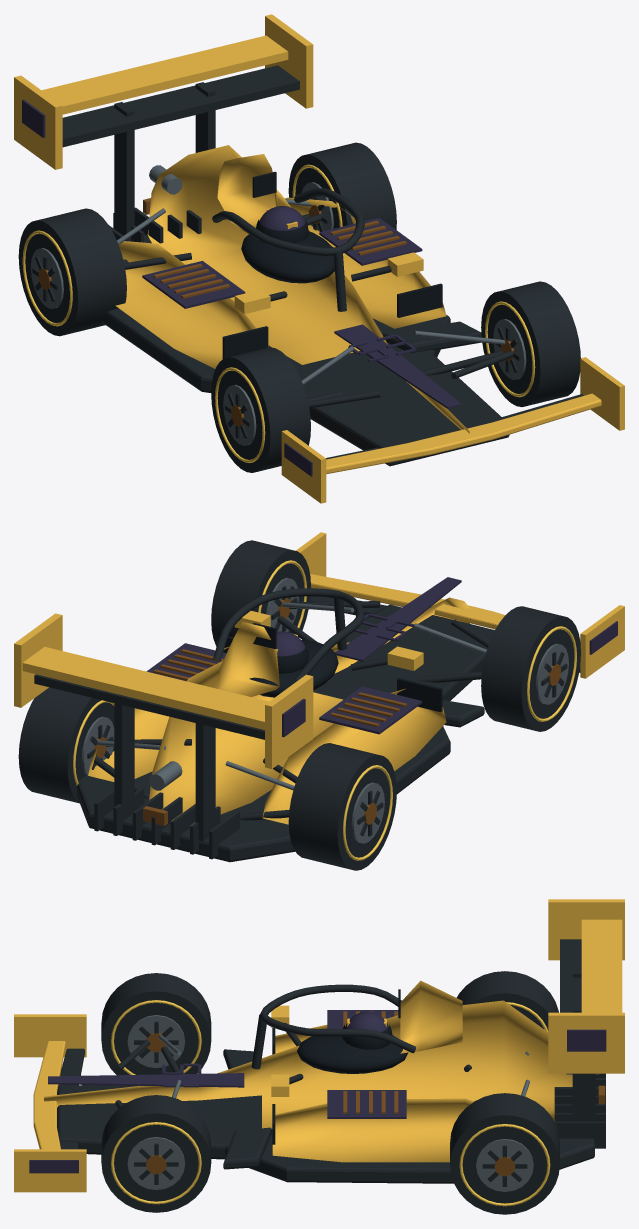
Rendered from formula-r3.glb.
The picture shows the model from 3 angles, top to bottom: view 1: azimuth 30°, elevation 25°; view 2: azimuth 150°, elevation 25°; view 3: azimuth 270°, elevation 25°; orthographic projection. The views are drawn at different scales.
Parts seen in each view (by area): view 1: body-0, tire (×4), body-2, body-1, body-5, body-6, body-3; view 2: body-0, tire (×4), body-2, body-1, body-5, body-6, body-3; view 3: body-0, tire (×4), body-2, body-1, body-5, body-6.
Part boxes in pixels (box(x1,y1,x2,y2)): body-0: box(14, 14, 624, 503); tire (×4): box(18, 142, 580, 472); body-2: box(62, 65, 583, 466); body-1: box(22, 99, 461, 476); body-5: box(222, 171, 442, 359); body-6: box(143, 198, 406, 298); body-3: box(117, 165, 505, 384); body-0: box(14, 532, 624, 825); tire (×4): box(18, 540, 580, 870); body-2: box(34, 588, 580, 862); body-1: box(146, 577, 617, 737); body-5: box(223, 623, 442, 712); body-6: box(143, 649, 406, 825); body-3: box(97, 602, 486, 790); body-0: box(14, 899, 624, 1192); tire (×4): box(101, 971, 559, 1214); body-2: box(57, 939, 605, 1183); body-1: box(29, 1010, 606, 1173); body-5: box(272, 989, 407, 1144); body-6: box(343, 1011, 605, 1113).
Bounding box in the file's own units: 2.74 × 1.6 × 4.78.
